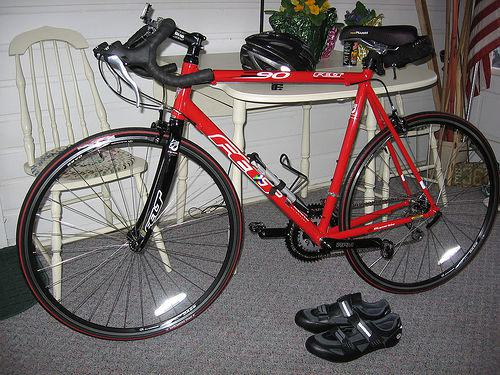car: (17, 17, 500, 342)
chair: (9, 26, 173, 310), (341, 92, 449, 226)
diningtable: (152, 49, 440, 274)
pottedplant: (269, 1, 334, 69)
